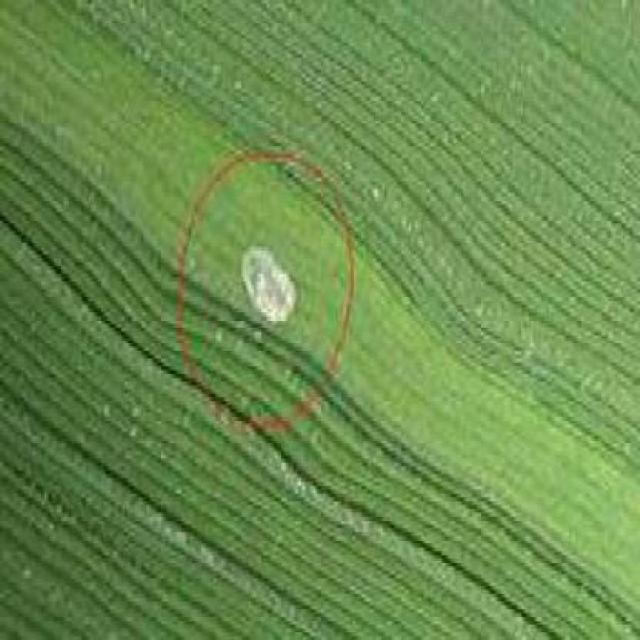leaf-folder: (224, 215, 301, 354)
